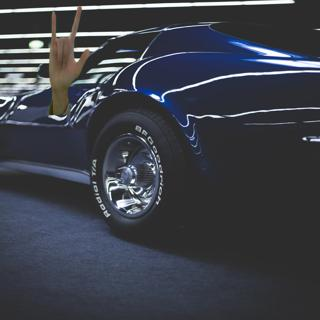ILY: (45, 3, 91, 91)
